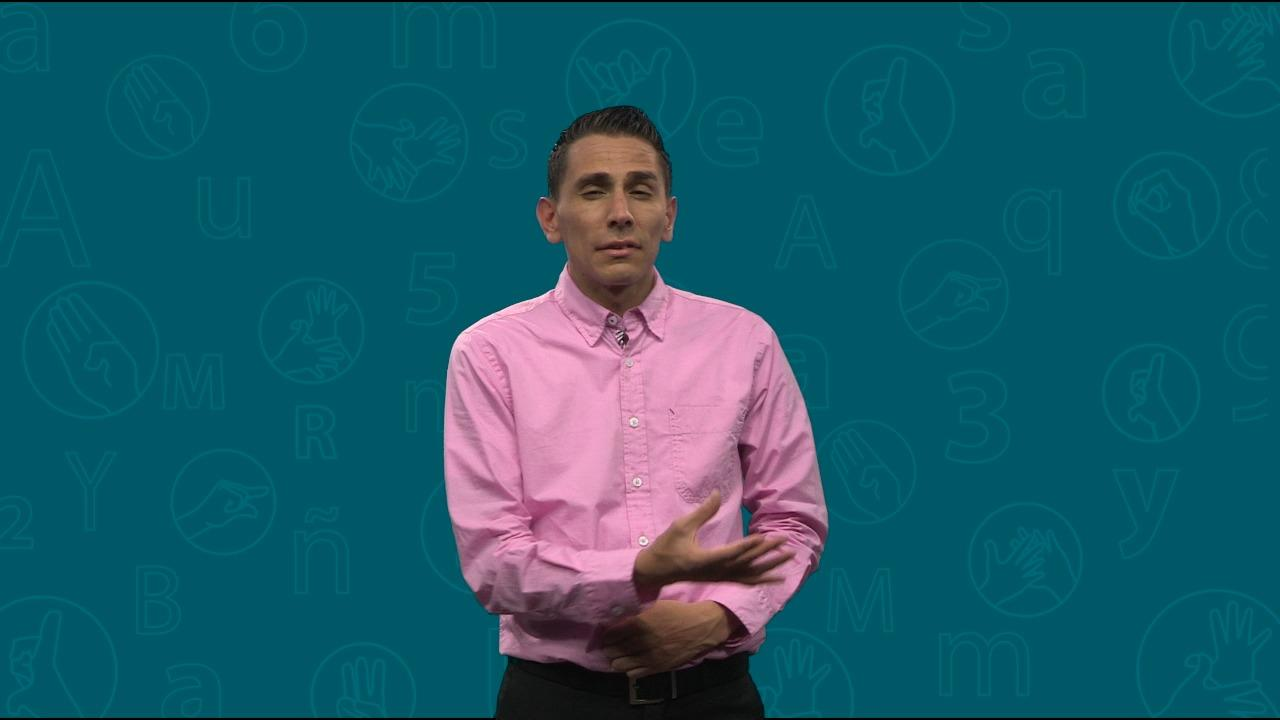Dolor: (396, 82, 936, 686)
